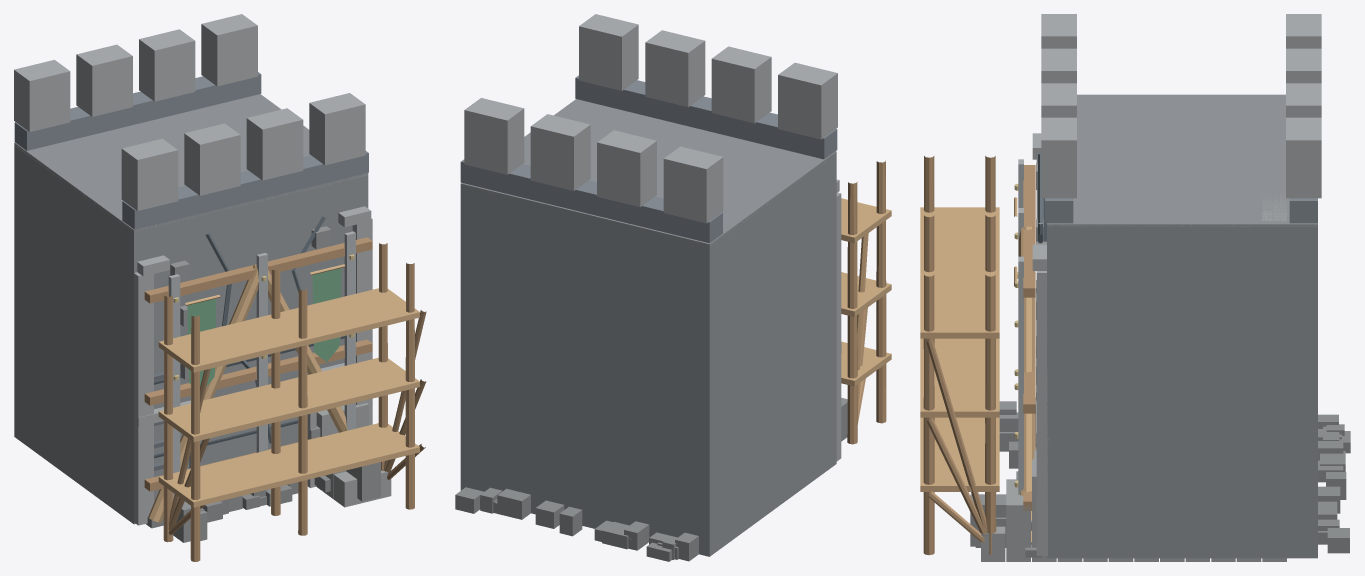
The model's file is muro_tramo.glb.
3 renders of one model, left to right at view 1: azimuth 30°, elevation 25°; view 2: azimuth 150°, elevation 25°; view 3: azimuth 270°, elevation 25°, orthographic. The views are drawn at different scales.
Parts seen in each view (by area): view 1: tramo_entero_sillares, andamio_madera, tramo_reforzado_madera, tramo_entero_desague_der_sillares, tramo_brecha_sillares, tramo_danado_sillares, tramo_reforzado_hierro, escalera_opcional_sillares, tramo_entero_desague_izq_sillares, tramo_danado_desague_izq_sillares; view 2: tramo_entero_sillares, tramo_entero_desague_der_sillares, tramo_entero_desague_izq_sillares, tramo_brecha_sillares, andamio_madera, tramo_danado_sillares, tramo_danado_desague_izq_sillares, tramo_danado_desague_der_sillares; view 3: tramo_entero_sillares, andamio_madera, tramo_entero_desague_izq_sillares, tramo_brecha_sillares, tramo_entero_desague_der_sillares, escalera_opcional_sillares, tramo_reforzado_madera, tramo_reforzado_hierro, tramo_danado_desague_izq_sillares, tramo_danado_sillares, tramo_danado_desague_der_sillares.
Boxes of the visible parts, x1=… form: tramo_entero_sillares: x1=14, y1=14, x2=372, y2=525; andamio_madera: x1=158, y1=243, x2=426, y2=561; tramo_reforzado_madera: x1=144, y1=237, x2=372, y2=522; tramo_entero_desague_der_sillares: x1=14, y1=97, x2=364, y2=468; tramo_brecha_sillares: x1=14, y1=94, x2=380, y2=542; tramo_danado_sillares: x1=14, y1=57, x2=325, y2=514; tramo_reforzado_hierro: x1=168, y1=231, x2=355, y2=494; escalera_opcional_sillares: x1=316, y1=403, x2=391, y2=507; tramo_entero_desague_izq_sillares: x1=20, y1=110, x2=368, y2=487; tramo_danado_desague_izq_sillares: x1=202, y1=475, x2=330, y2=522; tramo_entero_sillares: x1=460, y1=14, x2=841, y2=556; tramo_entero_desague_der_sillares: x1=460, y1=99, x2=841, y2=528; tramo_entero_desague_izq_sillares: x1=461, y1=119, x2=823, y2=555; tramo_brecha_sillares: x1=460, y1=99, x2=847, y2=556; andamio_madera: x1=841, y1=160, x2=891, y2=444; tramo_danado_sillares: x1=480, y1=60, x2=837, y2=561; tramo_danado_desague_izq_sillares: x1=455, y1=487, x2=677, y2=559; tramo_danado_desague_der_sillares: x1=494, y1=501, x2=698, y2=561; tramo_entero_sillares: x1=1032, y1=14, x2=1321, y2=558; andamio_madera: x1=920, y1=156, x2=999, y2=555; tramo_entero_desague_izq_sillares: x1=1036, y1=94, x2=1317, y2=443; tramo_brecha_sillares: x1=970, y1=94, x2=1317, y2=547; tramo_entero_desague_der_sillares: x1=1036, y1=127, x2=1310, y2=346; escalera_opcional_sillares: x1=981, y1=195, x2=1286, y2=561; tramo_reforzado_madera: x1=1014, y1=165, x2=1035, y2=542; tramo_reforzado_hierro: x1=1014, y1=159, x2=1023, y2=494; tramo_danado_desague_izq_sillares: x1=1009, y1=424, x2=1349, y2=553; tramo_danado_sillares: x1=1025, y1=154, x2=1350, y2=557; tramo_danado_desague_der_sillares: x1=1318, y1=414, x2=1345, y2=482.
Bounding box in the file's own units: 6.17 × 9.1 × 8.41.
